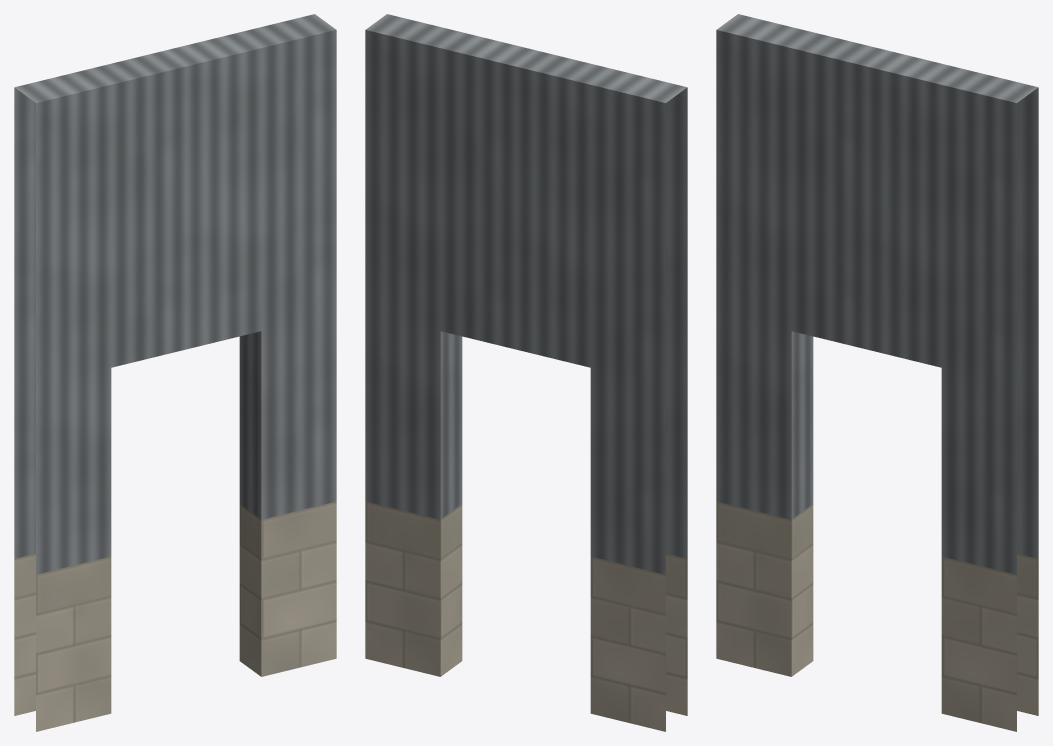
Rendered from wall_doorway_cladding.fbx.
3 views of the same model, side by side, from view 1: azimuth 30°, elevation 25°; view 2: azimuth 150°, elevation 25°; view 3: azimuth 330°, elevation 25° (orthographic).
Parts seen in each view (by area): view 1: wall_doorway_cladding; view 2: wall_doorway_cladding; view 3: wall_doorway_cladding.
Boxes of the visible parts, box(x1,y1,x2,y2) form: wall_doorway_cladding: box(14, 14, 336, 731); wall_doorway_cladding: box(365, 14, 687, 731); wall_doorway_cladding: box(716, 14, 1038, 731).
Bounding box in the file's own units: 2 × 4 × 0.25.
Materials: 1 (1 with a texture image).
